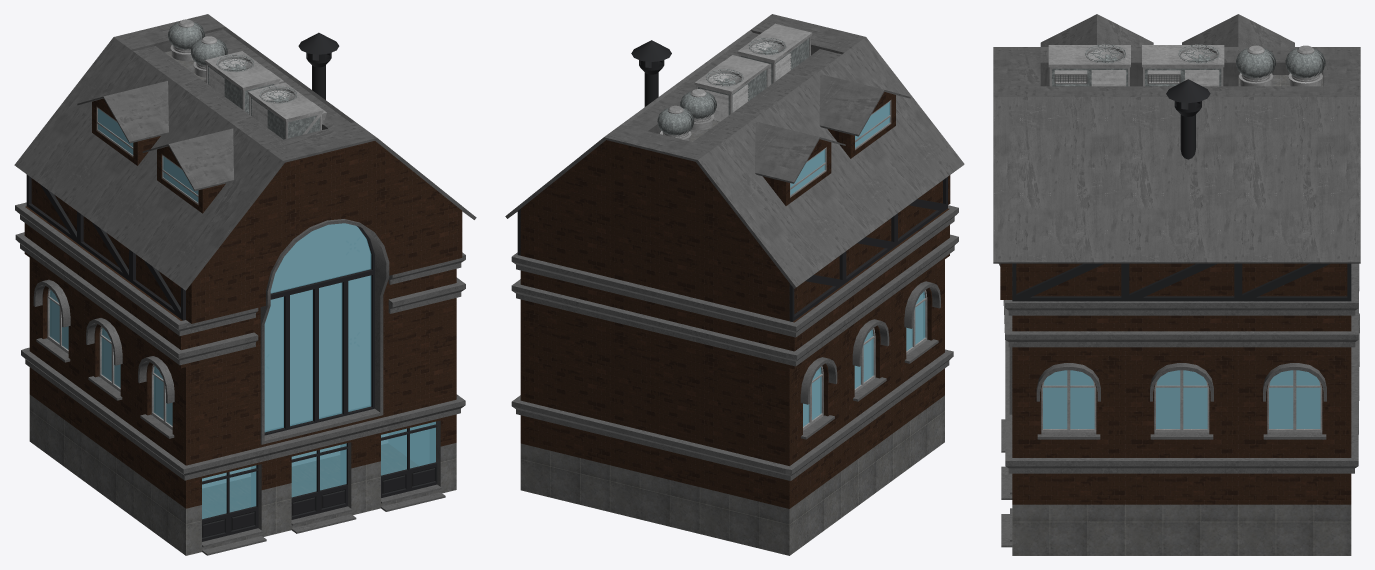
The model's file is Building_Small_DownTown1.obj.
3 views of the same model, side by side, from view 1: azimuth 30°, elevation 25°; view 2: azimuth 150°, elevation 25°; view 3: azimuth 270°, elevation 25° (orthographic). The views are drawn at different scales.
Parts seen in each view (by area): view 1: Building_Small_DownTown1_Building_Small_DownTown1_Mesh_DarkBrick, Building_Small_DownTown1_Building_Small_DownTown1_Mesh_MetalPane, Building_Small_DownTown1_Building_Small_DownTown1_Mesh_CementSmo, Building_Small_DownTown1_Building_Small_DownTown1_Mesh_Glass, Building_Small_DownTown1_Building_Small_DownTown1_Mesh_EpoxyBloc, Building_Small_DownTown1_Building_Small_DownTown1_Mesh_MetalPain, Building_Small_DownTown1_Building_Small_DownTown1_Mesh_CementPan, Building_Small_DownTown1_Building_Small_DownTown1_Mesh_MetalSmoo, Building_Small_DownTown1_Building_Small_DownTown1_Mesh_MetalGava, Building_Small_DownTown1_Building_Small_DownTown1_Mesh_WoodBoard; view 2: Building_Small_DownTown1_Building_Small_DownTown1_Mesh_DarkBrick, Building_Small_DownTown1_Building_Small_DownTown1_Mesh_MetalPane, Building_Small_DownTown1_Building_Small_DownTown1_Mesh_CementSmo, Building_Small_DownTown1_Building_Small_DownTown1_Mesh_CementPan, Building_Small_DownTown1_Building_Small_DownTown1_Mesh_MetalSmoo, Building_Small_DownTown1_Building_Small_DownTown1_Mesh_MetalPain, Building_Small_DownTown1_Building_Small_DownTown1_Mesh_MetalGava, Building_Small_DownTown1_Building_Small_DownTown1_Mesh_Glass, Building_Small_DownTown1_Building_Small_DownTown1_Mesh_EpoxyBloc; view 3: Building_Small_DownTown1_Building_Small_DownTown1_Mesh_MetalPane, Building_Small_DownTown1_Building_Small_DownTown1_Mesh_DarkBrick, Building_Small_DownTown1_Building_Small_DownTown1_Mesh_CementSmo, Building_Small_DownTown1_Building_Small_DownTown1_Mesh_CementPan, Building_Small_DownTown1_Building_Small_DownTown1_Mesh_MetalSmoo, Building_Small_DownTown1_Building_Small_DownTown1_Mesh_Glass, Building_Small_DownTown1_Building_Small_DownTown1_Mesh_EpoxyBloc, Building_Small_DownTown1_Building_Small_DownTown1_Mesh_MetalPain, Building_Small_DownTown1_Building_Small_DownTown1_Mesh_MetalGava.
Part boxes in pixels (x1=…): Building_Small_DownTown1_Building_Small_DownTown1_Mesh_DarkBrick: x1=24, y1=98, x2=462, y2=508; Building_Small_DownTown1_Building_Small_DownTown1_Mesh_MetalPane: x1=14, y1=14, x2=476, y2=290; Building_Small_DownTown1_Building_Small_DownTown1_Mesh_CementSmo: x1=15, y1=202, x2=465, y2=555; Building_Small_DownTown1_Building_Small_DownTown1_Mesh_Glass: x1=49, y1=108, x2=435, y2=519; Building_Small_DownTown1_Building_Small_DownTown1_Mesh_EpoxyBloc: x1=52, y1=110, x2=428, y2=487; Building_Small_DownTown1_Building_Small_DownTown1_Mesh_MetalPain: x1=26, y1=32, x2=437, y2=541; Building_Small_DownTown1_Building_Small_DownTown1_Mesh_CementPan: x1=29, y1=51, x2=456, y2=555; Building_Small_DownTown1_Building_Small_DownTown1_Mesh_MetalSmoo: x1=47, y1=19, x2=326, y2=429; Building_Small_DownTown1_Building_Small_DownTown1_Mesh_MetalGava: x1=168, y1=22, x2=319, y2=139; Building_Small_DownTown1_Building_Small_DownTown1_Mesh_WoodBoard: x1=202, y1=444, x2=417, y2=518; Building_Small_DownTown1_Building_Small_DownTown1_Mesh_DarkBrick: x1=520, y1=92, x2=950, y2=508; Building_Small_DownTown1_Building_Small_DownTown1_Mesh_MetalPane: x1=505, y1=14, x2=964, y2=288; Building_Small_DownTown1_Building_Small_DownTown1_Mesh_CementSmo: x1=511, y1=205, x2=958, y2=480; Building_Small_DownTown1_Building_Small_DownTown1_Mesh_CementPan: x1=520, y1=120, x2=944, y2=555; Building_Small_DownTown1_Building_Small_DownTown1_Mesh_MetalSmoo: x1=660, y1=23, x2=927, y2=430; Building_Small_DownTown1_Building_Small_DownTown1_Mesh_MetalPain: x1=517, y1=40, x2=947, y2=321; Building_Small_DownTown1_Building_Small_DownTown1_Mesh_MetalGava: x1=657, y1=38, x2=809, y2=135; Building_Small_DownTown1_Building_Small_DownTown1_Mesh_Glass: x1=790, y1=102, x2=925, y2=426; Building_Small_DownTown1_Building_Small_DownTown1_Mesh_EpoxyBloc: x1=791, y1=103, x2=922, y2=424; Building_Small_DownTown1_Building_Small_DownTown1_Mesh_MetalPane: x1=993, y1=14, x2=1360, y2=263; Building_Small_DownTown1_Building_Small_DownTown1_Mesh_DarkBrick: x1=1000, y1=263, x2=1351, y2=504; Building_Small_DownTown1_Building_Small_DownTown1_Mesh_CementSmo: x1=999, y1=263, x2=1359, y2=547; Building_Small_DownTown1_Building_Small_DownTown1_Mesh_CementPan: x1=1012, y1=75, x2=1351, y2=555; Building_Small_DownTown1_Building_Small_DownTown1_Mesh_MetalSmoo: x1=1041, y1=45, x2=1322, y2=432; Building_Small_DownTown1_Building_Small_DownTown1_Mesh_Glass: x1=1043, y1=370, x2=1320, y2=428; Building_Small_DownTown1_Building_Small_DownTown1_Mesh_EpoxyBloc: x1=1043, y1=371, x2=1319, y2=427; Building_Small_DownTown1_Building_Small_DownTown1_Mesh_MetalPain: x1=1012, y1=79, x2=1351, y2=301; Building_Small_DownTown1_Building_Small_DownTown1_Mesh_MetalGava: x1=1052, y1=44, x2=1325, y2=86.
Size of the model in its own units: 9.74 by 13.08 by 9.75.
Materials: 10 (9 with a texture image).
